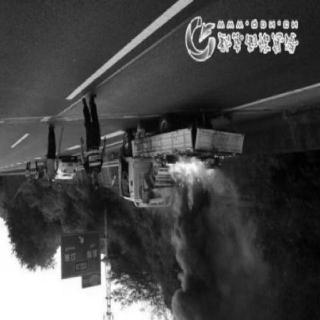Fire: (161, 152, 217, 212)
Smoke: (166, 202, 268, 318)
